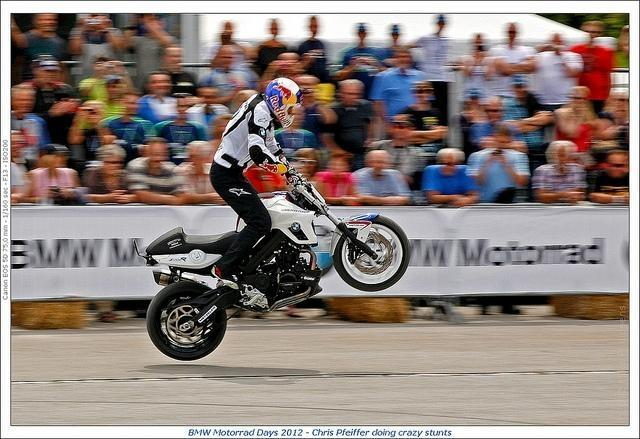motorcycle: (136, 168, 412, 360)
